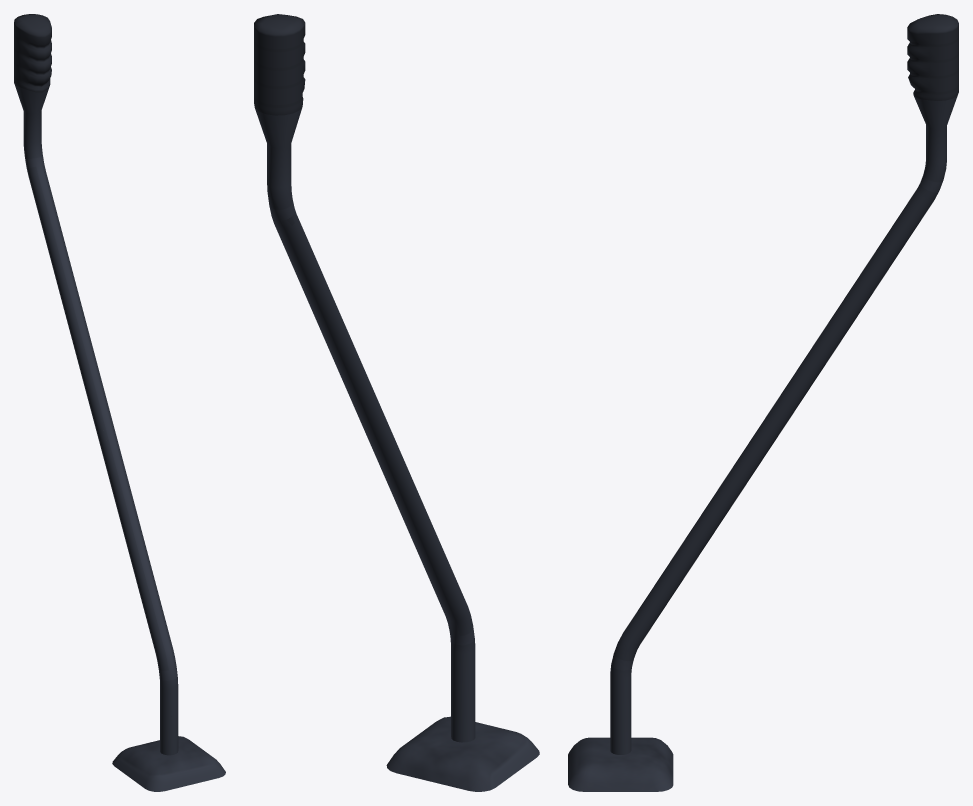
File: s3d_flightstick1.fbx
3 renders of one model, left to right at view 1: azimuth 30°, elevation 25°; view 2: azimuth 150°, elevation 25°; view 3: azimuth 270°, elevation 25°, orthographic. The views are drawn at different scales.
Parts seen in each view (by area): view 1: S3D_FlightStick1, S3D_FlightStick1Base; view 2: S3D_FlightStick1, S3D_FlightStick1Base; view 3: S3D_FlightStick1, S3D_FlightStick1Base.
Part boxes in pixels (x1,y1,x2,y2): S3D_FlightStick1: [14, 14, 178, 755]; S3D_FlightStick1Base: [112, 736, 225, 791]; S3D_FlightStick1: [254, 14, 475, 742]; S3D_FlightStick1Base: [386, 716, 539, 791]; S3D_FlightStick1: [610, 14, 958, 754]; S3D_FlightStick1Base: [568, 737, 673, 791].
Size of the model in its own units: 10 by 78.64 by 37.11.
